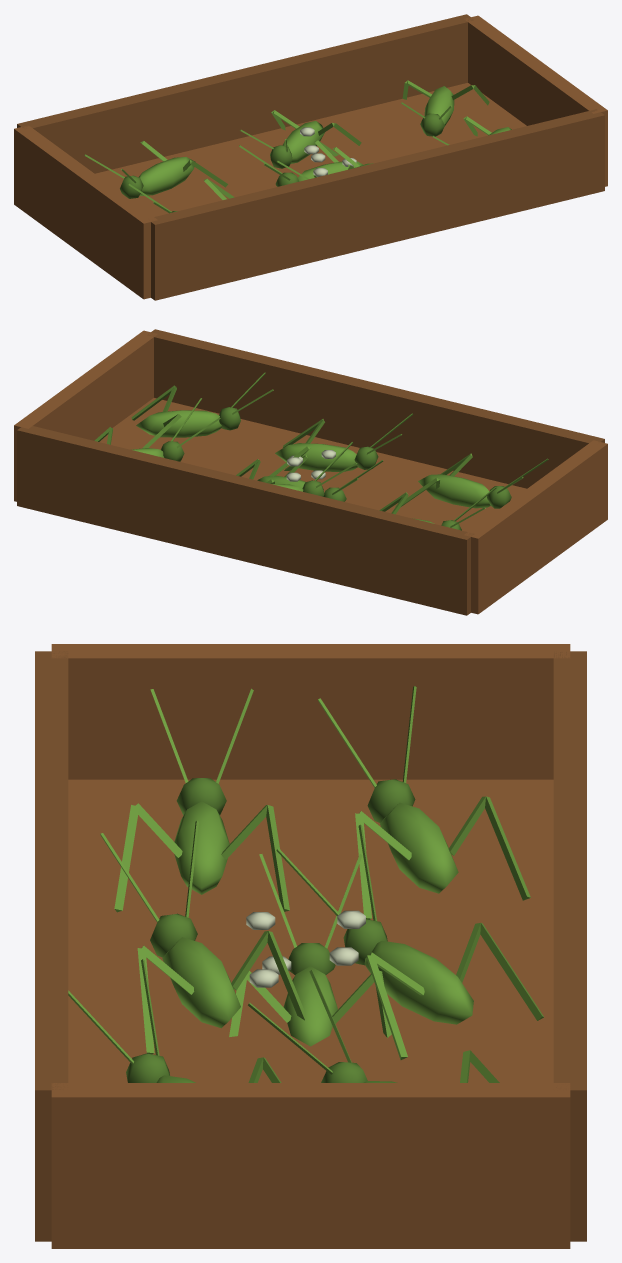
Rendered from Insect_Grasshopper.fbx.
3 renders of one model, top to bottom at view 1: azimuth 30°, elevation 25°; view 2: azimuth 150°, elevation 25°; view 3: azimuth 270°, elevation 25°, orthographic. The views are drawn at different scales.
Parts seen in each view (by area): view 1: Insect_Grasshopper__Stack, Insect_Grasshopper, Insect_Grasshopper__Rotten; view 2: Insect_Grasshopper__Stack, Insect_Grasshopper, Insect_Grasshopper__Rotten; view 3: Insect_Grasshopper__Stack, Insect_Grasshopper, Insect_Grasshopper__Rotten.
Boxes of the visible parts, x1,y1,x2,y2 form: Insect_Grasshopper__Stack: (14, 14, 607, 300); Insect_Grasshopper: (239, 140, 363, 186); Insect_Grasshopper__Rotten: (300, 127, 356, 176); Insect_Grasshopper__Stack: (14, 329, 607, 615); Insect_Grasshopper: (257, 455, 383, 501); Insect_Grasshopper__Rotten: (286, 450, 335, 481); Insect_Grasshopper__Stack: (35, 644, 586, 1248); Insect_Grasshopper: (229, 854, 391, 1046); Insect_Grasshopper__Rotten: (246, 910, 365, 987).
Bounding box in the file's own units: 0.2564 × 0.04 × 0.132.
